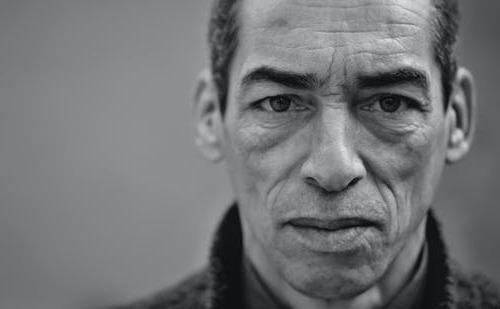Wrinkles: (253, 132, 293, 152), (308, 4, 409, 10), (320, 49, 335, 86), (255, 43, 306, 48), (348, 51, 410, 55), (316, 30, 378, 33), (308, 46, 342, 50), (378, 36, 408, 39), (387, 23, 409, 24), (345, 63, 346, 80)
